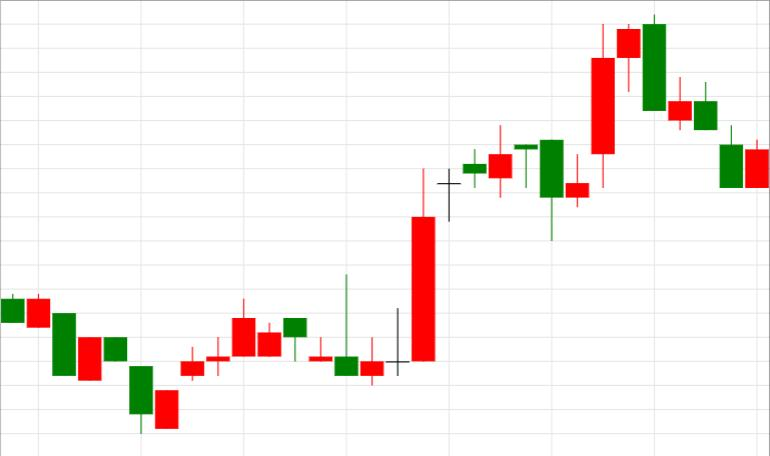bearish_engulfing_fall: (489, 13, 666, 240)
